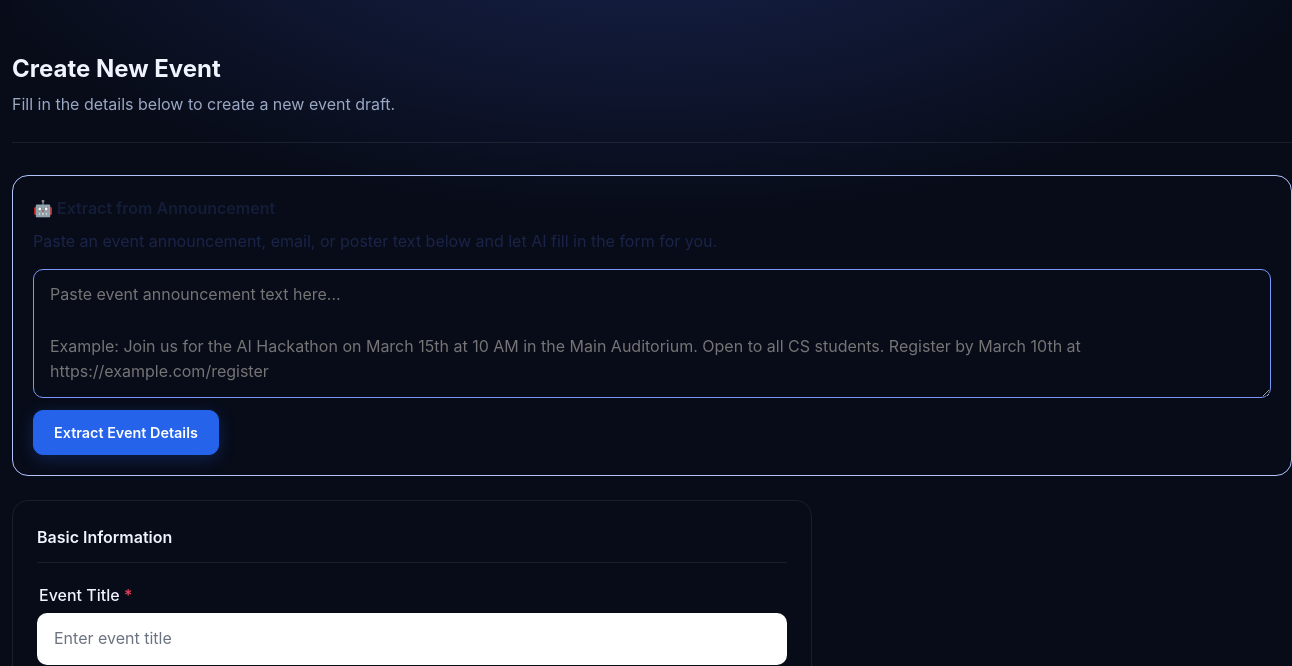
CreateEventPage AI extraction description mapping › A non-empty API description populates the description form field
Replace the text in the text box with placeholder "Paste event announcement text" with "Some announcement text" at (652, 334), box [33,269,1271,398]
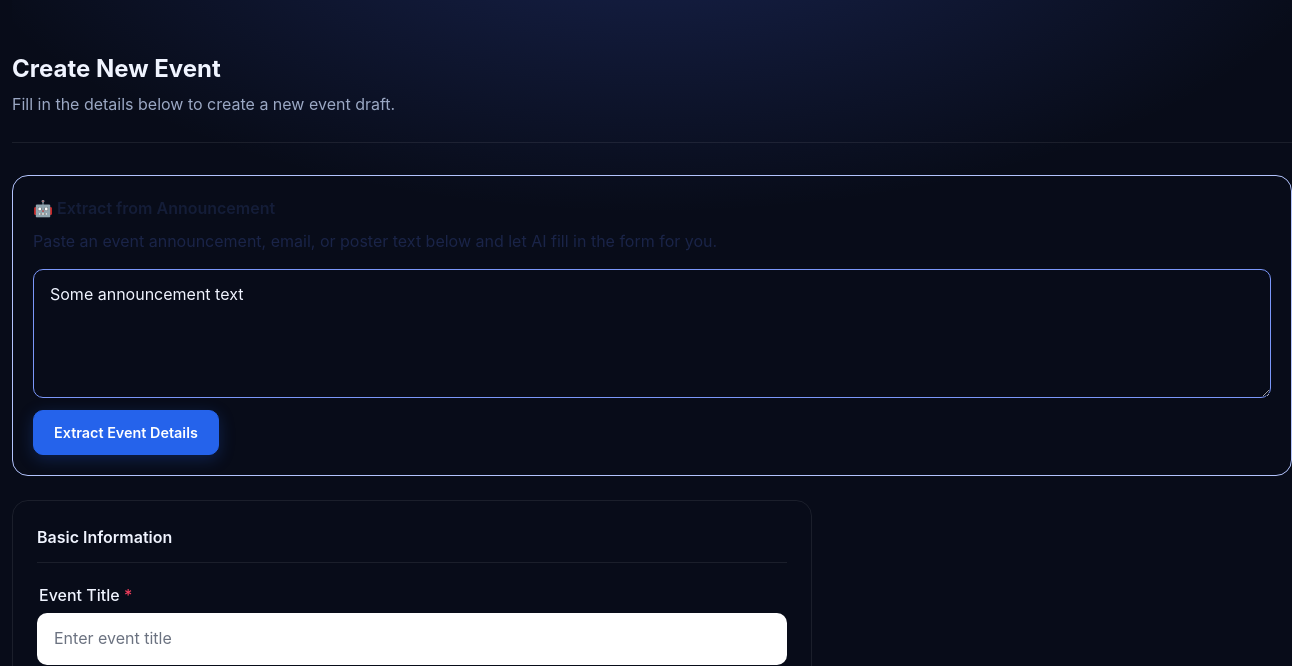
Click the button "Extract Event Details" at (126, 432), box [33,410,219,455]
(page scrolled)
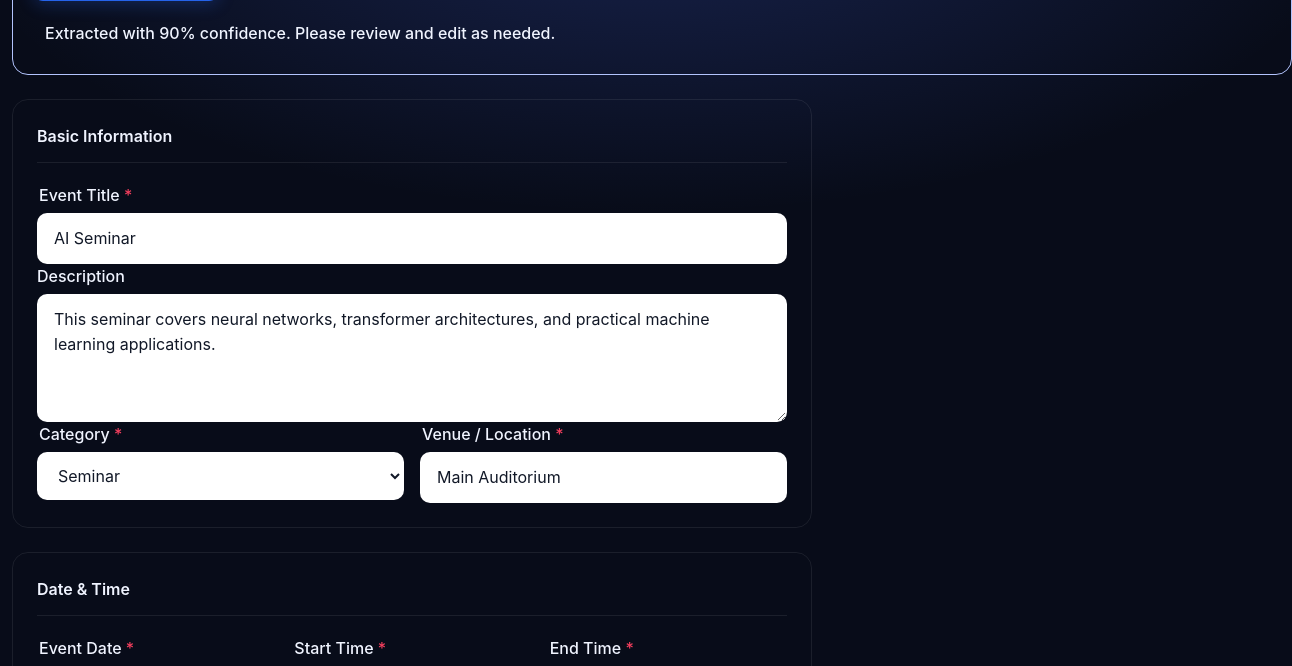
Expected: the text box labelled "Description" holds "This seminar covers neural networks, transformer architectures, and practical machine learning applications.", [37,294,787,422]
